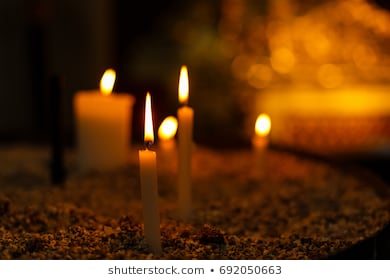Fire: (142, 92, 155, 145), (176, 65, 192, 104), (250, 111, 275, 134), (97, 67, 117, 94), (157, 116, 179, 139)
